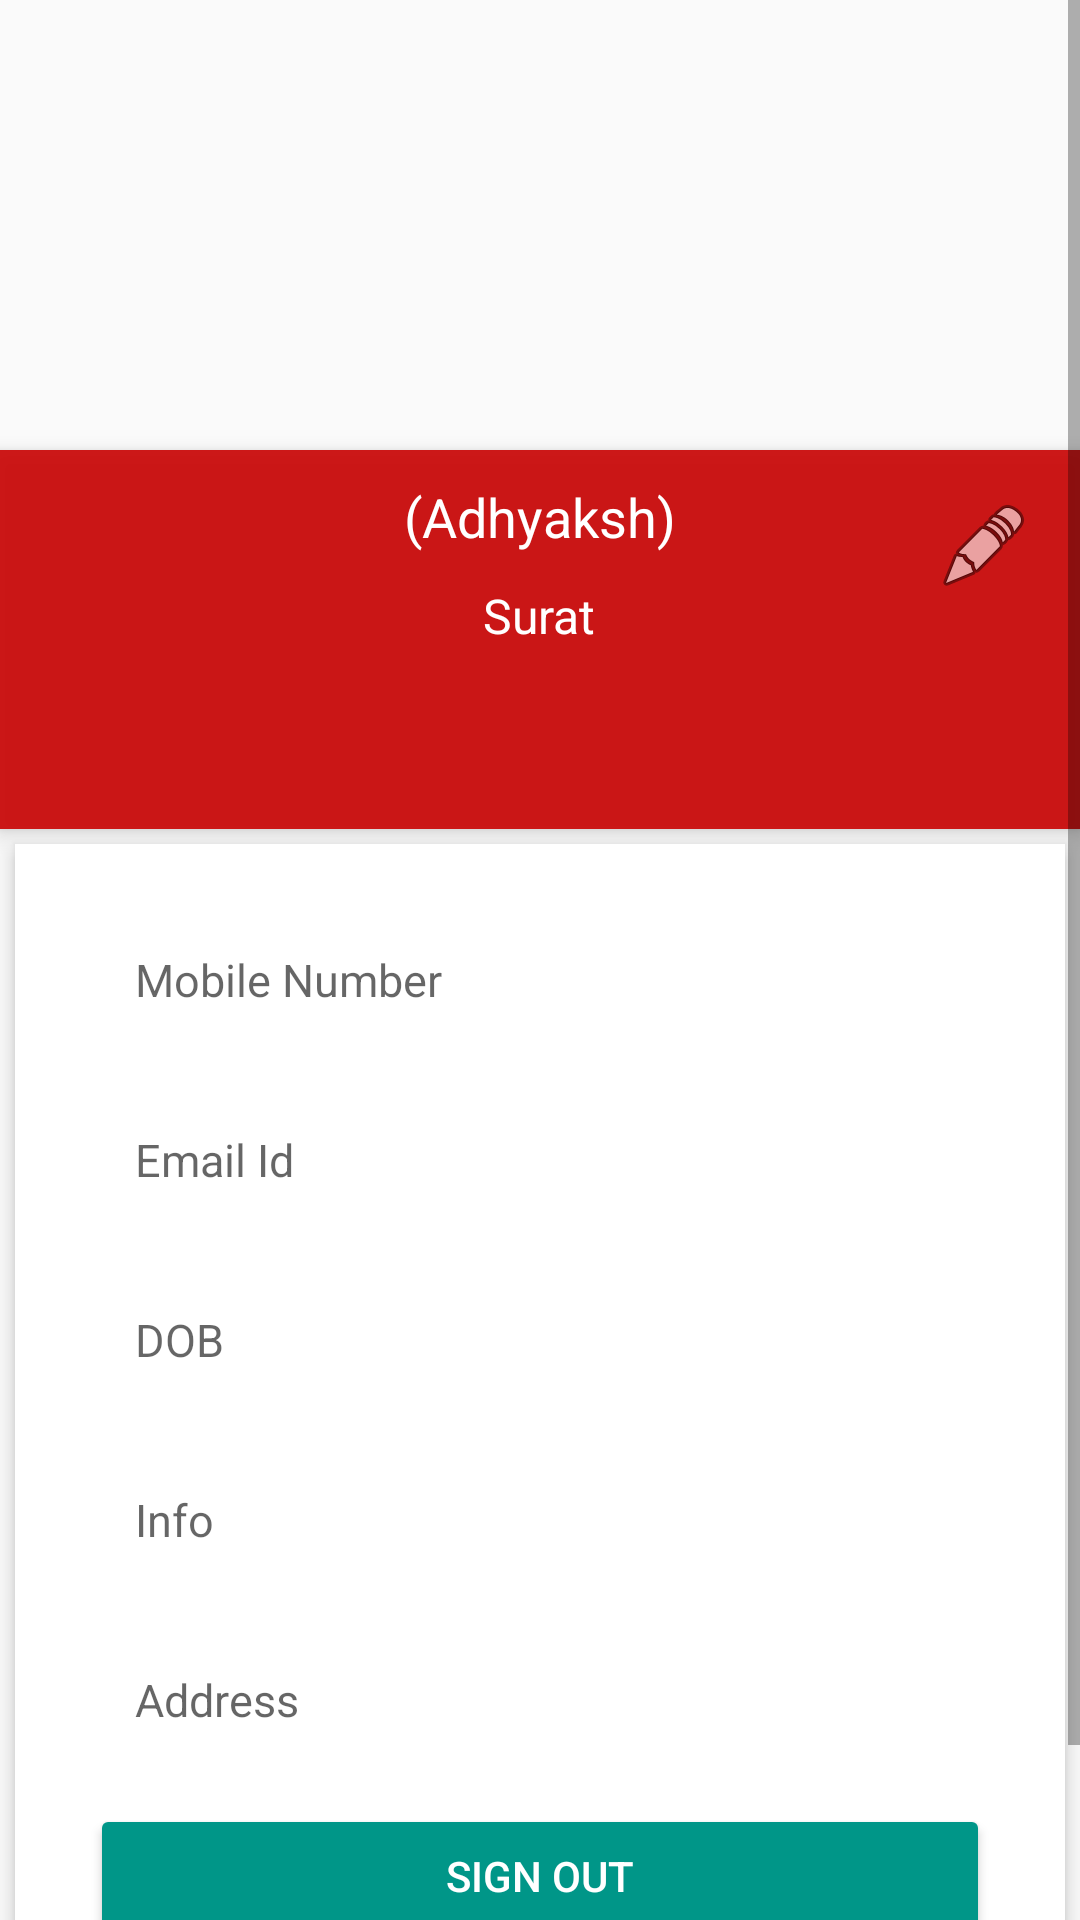

Screen size 1080×1920. Icon name, then its center in pixels as (x,y):
edit: (983,545)
